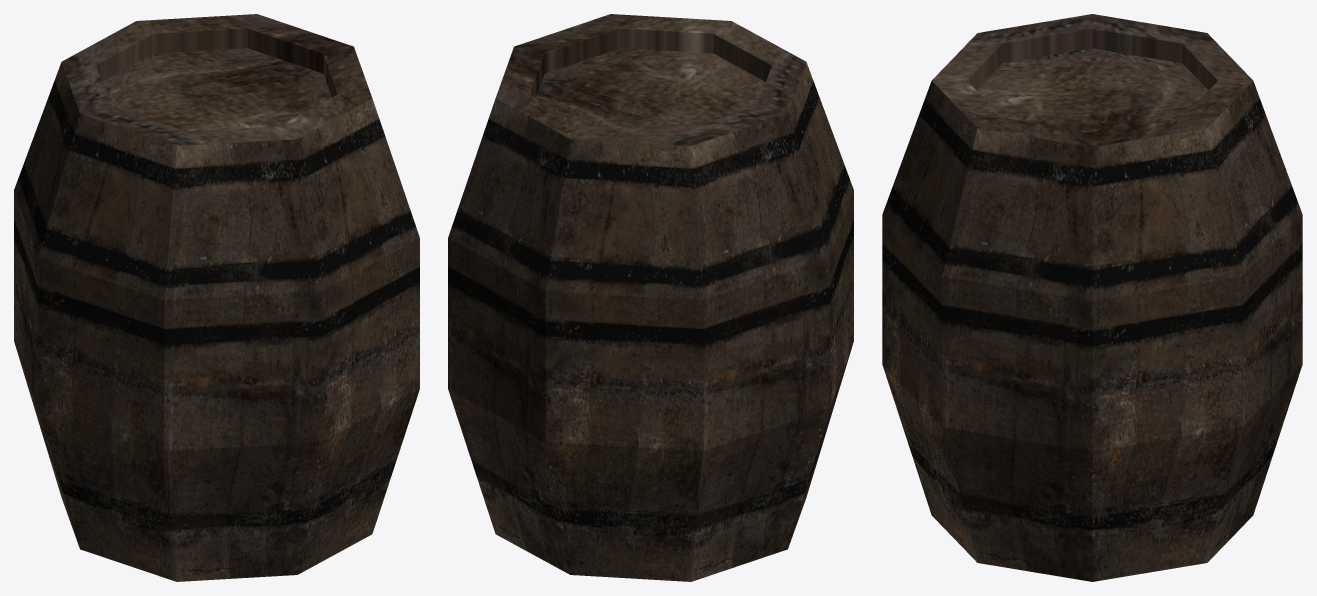
File: barrel00.fbx
The picture shows the model from 3 angles, left to right: view 1: azimuth 30°, elevation 25°; view 2: azimuth 150°, elevation 25°; view 3: azimuth 270°, elevation 25°; orthographic projection.
Parts seen in each view (by area): view 1: Cube; view 2: Cube; view 3: Cube.
Part boxes in pixels (box(x1,y1,x2,y2)): Cube: box(14, 14, 419, 581); Cube: box(448, 14, 853, 581); Cube: box(882, 14, 1302, 581).
Bounding box in the file's own units: 128 × 149 × 131.
1 material, 1 textured.
